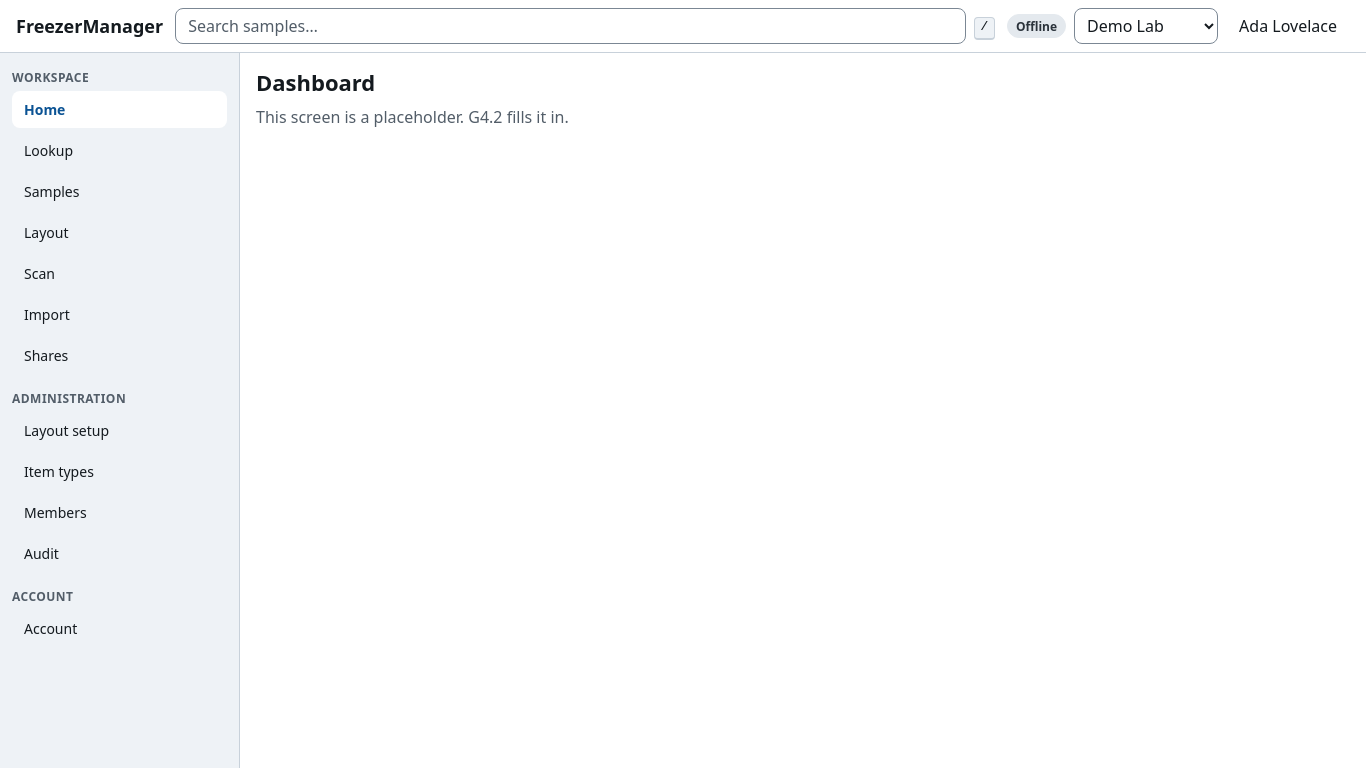
Test: global lookup › does not steal the keystroke while the user is typing
The image size is (1366, 768).
Click the search field named "Search samples by name or barcode".
click(570, 26)  # box [175,8,966,44]
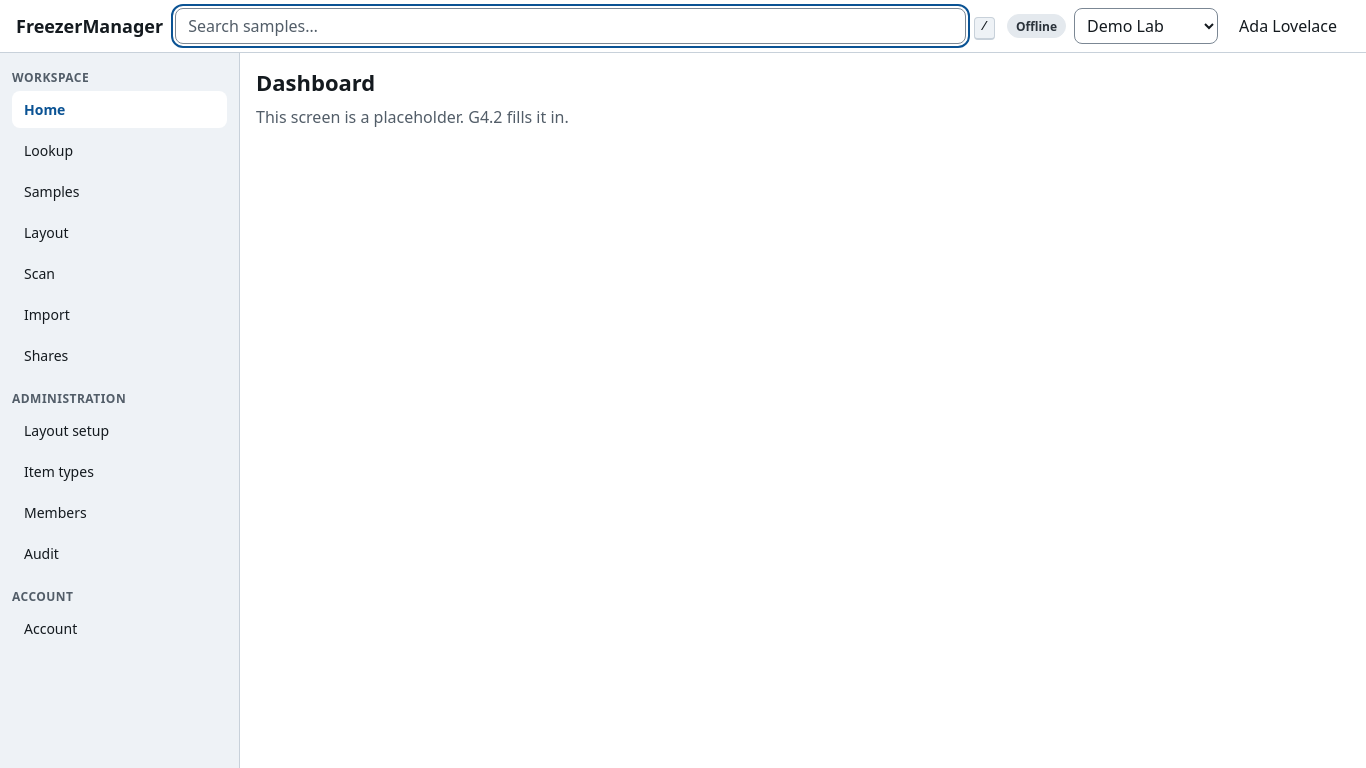
Type keys "/"
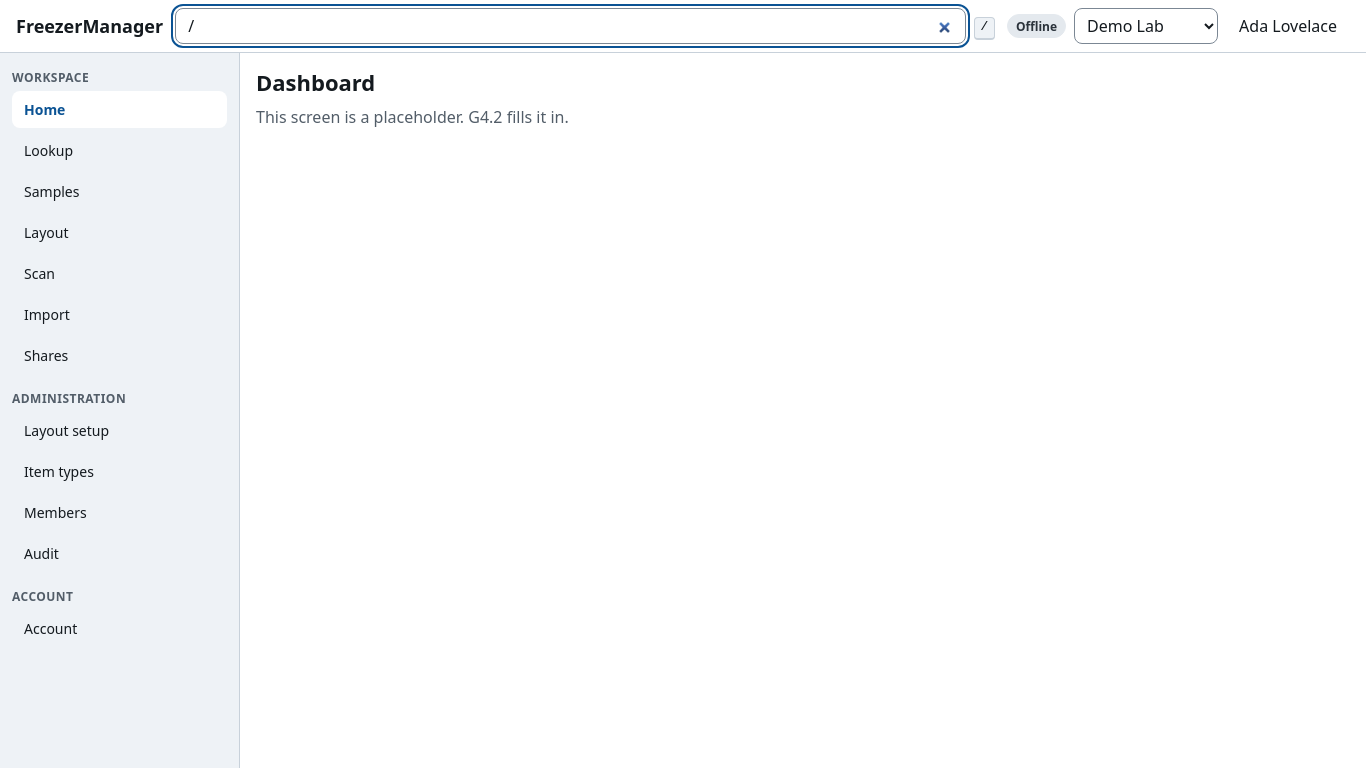
Expected: the search field named "Search samples by name or barcode" holds "/", [175,8,966,44]
